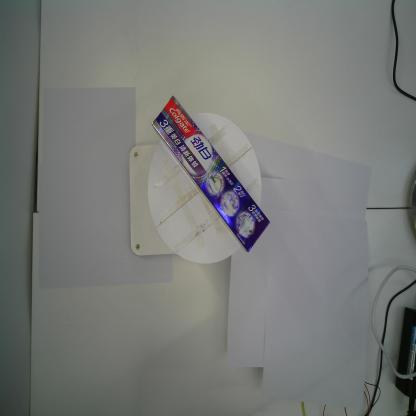Personal Hygiene: (150, 96, 271, 252)
